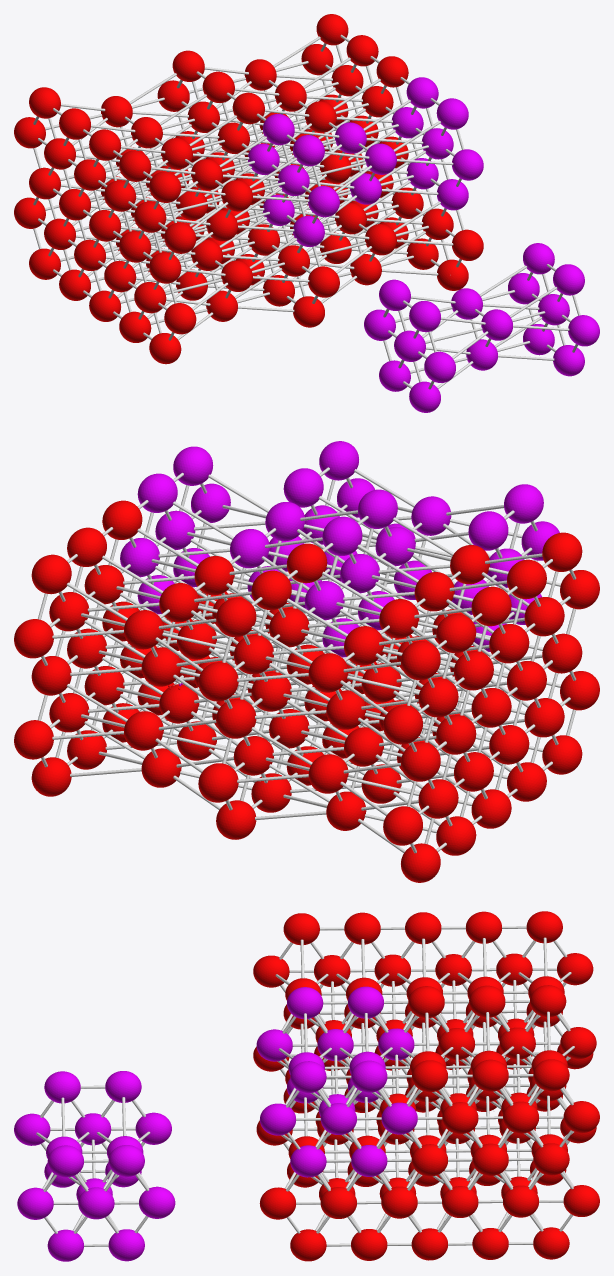
3 renders of one model, top to bottom at view 1: azimuth 30°, elevation 25°; view 2: azimuth 150°, elevation 25°; view 3: azimuth 270°, elevation 25°, orthographic. The views are drawn at different scales.
Parts seen in each view (by area): view 1: world, world.018, world.016, world.004, world.002, world.019, world.052, world.020, world.023, world.022, world.017, world.003 (+17 smaller); view 2: world.003, world.019, world.017, world.007, world.023, world.001, world.021, world.016, world, world.005, world.020, world.029 (+16 smaller); view 3: world.023, world.007, world.006, world.004, world.017, world.020, world.052, world.016, world.005, world.019, world.021, world.022 (+14 smaller).
Boxes of the visible parts, x1=… form: world: x1=109, y1=215, x2=319, y2=364; world.018: x1=47, y1=73, x2=259, y2=241; world.016: x1=109, y1=134, x2=319, y2=283; world.004: x1=268, y1=178, x2=483, y2=326; world.002: x1=47, y1=154, x2=273, y2=321; world.019: x1=14, y1=51, x2=231, y2=216; world.052: x1=385, y1=264, x2=599, y2=389; world.020: x1=269, y1=98, x2=483, y2=222; world.023: x1=170, y1=14, x2=378, y2=159; world.022: x1=204, y1=56, x2=408, y2=201; world.017: x1=74, y1=93, x2=294, y2=257; world.003: x1=14, y1=131, x2=226, y2=296; world.003: x1=207, y1=674, x2=490, y2=882; world.019: x1=207, y1=573, x2=490, y2=781; world.017: x1=279, y1=516, x2=561, y2=727; world.007: x1=14, y1=630, x2=287, y2=838; world.023: x1=14, y1=527, x2=286, y2=737; world.001: x1=279, y1=644, x2=561, y2=828; world.021: x1=102, y1=473, x2=353, y2=678; world.016: x1=331, y1=516, x2=599, y2=695; world: x1=341, y1=617, x2=599, y2=795; world.005: x1=84, y1=601, x2=353, y2=779; world.020: x1=147, y1=446, x2=388, y2=627; world.029: x1=84, y1=510, x2=269, y2=614; world.023: x1=455, y1=986, x2=599, y2=1175; world.007: x1=459, y1=1077, x2=599, y2=1259; world.006: x1=378, y1=1078, x2=522, y2=1260; world.004: x1=259, y1=1085, x2=400, y2=1261; world.017: x1=331, y1=912, x2=472, y2=1061; world.020: x1=260, y1=1001, x2=390, y2=1177; world.052: x1=17, y1=1086, x2=148, y2=1261; world.016: x1=253, y1=912, x2=393, y2=1062; world.005: x1=335, y1=1085, x2=478, y2=1260; world.019: x1=452, y1=911, x2=594, y2=1060; world.021: x1=341, y1=987, x2=475, y2=1176; world.022: x1=400, y1=987, x2=518, y2=1176.
Bounding box in the file's own units: 80.23 × 45.09 × 121.
